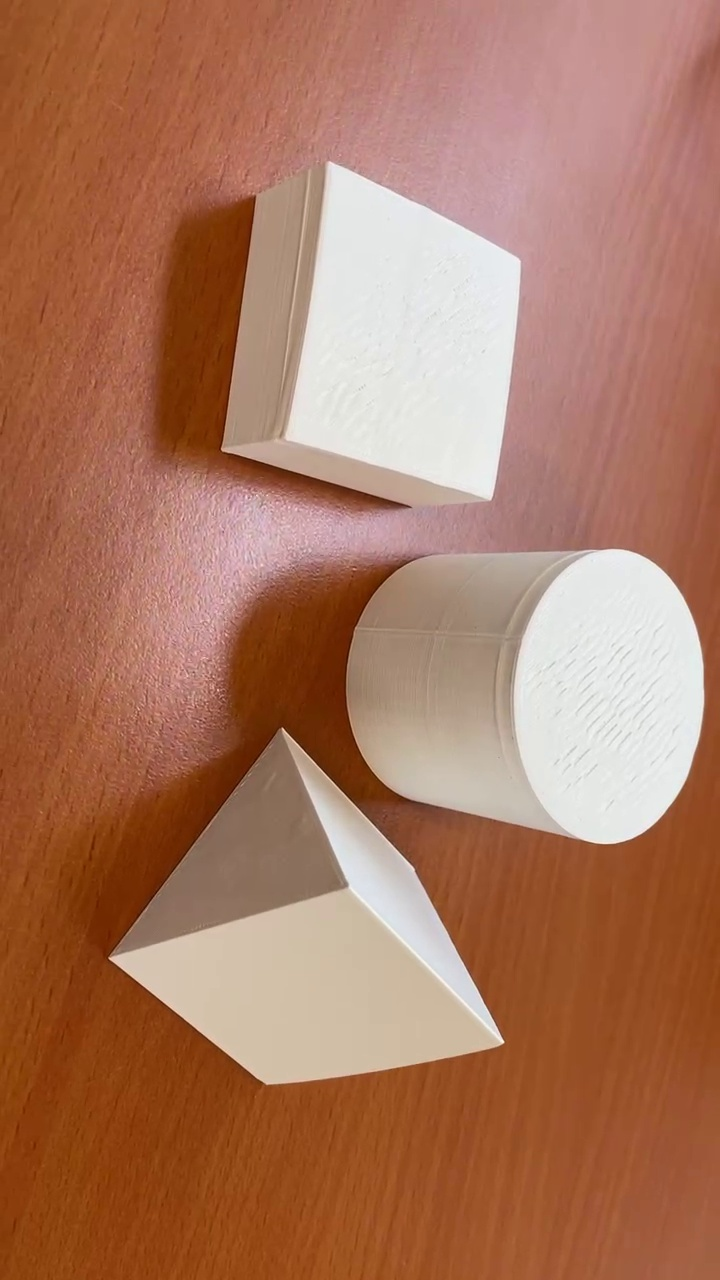Cube_short: (219, 160, 524, 513)
Cylinder: (344, 548, 705, 846)
Triangle: (101, 730, 504, 1092)
